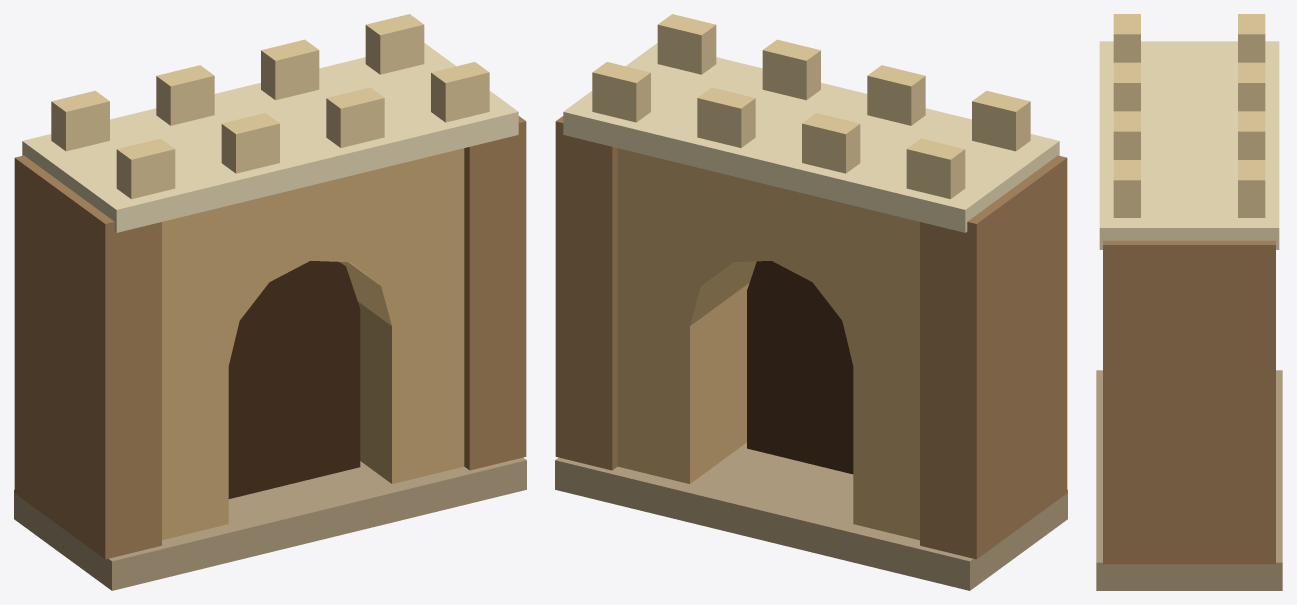
Rendered from wall_gate_small.fbx.
3 renders of one model, left to right at view 1: azimuth 30°, elevation 25°; view 2: azimuth 150°, elevation 25°; view 3: azimuth 270°, elevation 25°, orthographic. The views are drawn at different scales.
Parts seen in each view (by area): view 1: wall_gate_small; view 2: wall_gate_small; view 3: wall_gate_small.
Part boxes in pixels (box(x1,y1,x2,y2)): wall_gate_small: box(14, 14, 526, 590); wall_gate_small: box(555, 14, 1067, 590); wall_gate_small: box(1096, 14, 1282, 590).
Bounding box in the file's own units: 6.7 × 6.35 × 2.7.
Materials: 1 (1 with a texture image).
